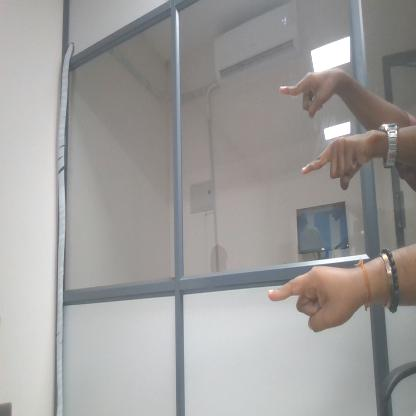Right: (266, 254, 350, 335), (300, 130, 362, 192), (281, 68, 341, 114)
